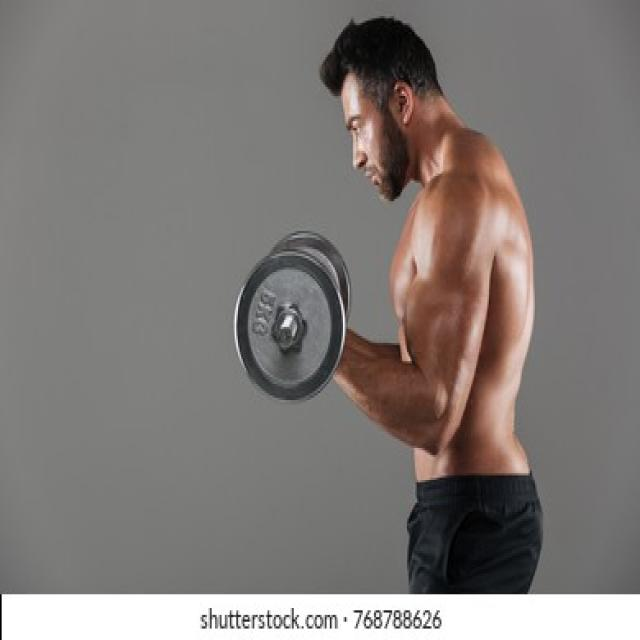barbell_plate_side: (233, 229, 262, 400), (322, 229, 351, 400)
